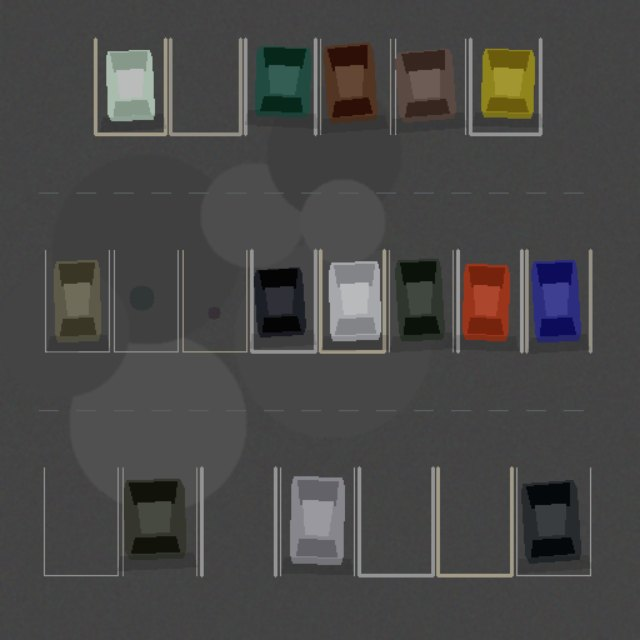space-empty: (44, 467, 118, 575), (201, 467, 275, 575), (359, 467, 432, 575), (438, 467, 511, 575), (170, 39, 240, 134), (114, 250, 177, 351), (183, 250, 246, 351)
space-occupied: (122, 467, 196, 575), (280, 467, 354, 575), (516, 467, 590, 575), (95, 39, 165, 134), (245, 39, 315, 134), (320, 39, 390, 134), (395, 39, 465, 134), (470, 39, 540, 134), (45, 250, 109, 351), (251, 250, 315, 351), (320, 250, 384, 351), (389, 250, 453, 351), (457, 250, 521, 351), (526, 250, 590, 351)
